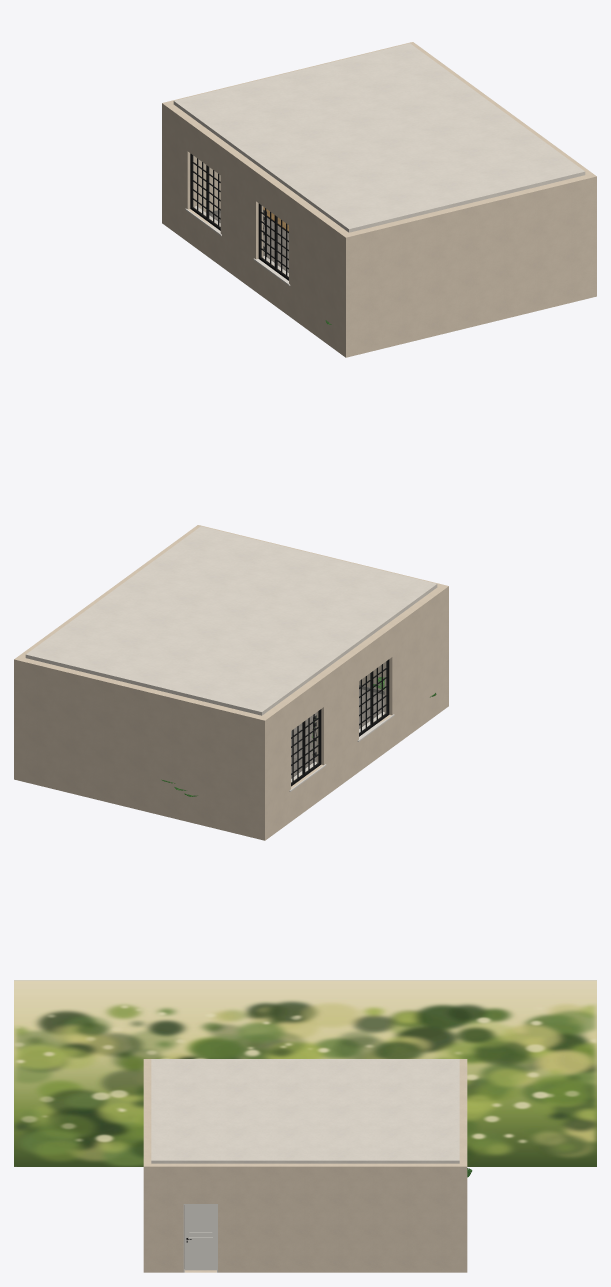
Rendered from room.glb.
3 views of the same model, one above another, from view 1: azimuth 30°, elevation 25°; view 2: azimuth 150°, elevation 25°; view 3: azimuth 270°, elevation 25° (orthographic). The views are drawn at different scales.
Visible parts, largest first — view 1: Ceiling, Wall_Front, Wall_Left, Wall_Back, Window_2_windowFrame, Window_1_windowFrame, Wall_Right, Floor; view 2: Ceiling, Wall_Back, Wall_Left, Floor, Wall_Right, Window_2_windowFrame, Window_1_windowFrame, Wall_Front; view 3: Outside_Garden, Wall_Right, Ceiling, Door_door, Wall_Back, Wall_Front.
Boxes of the visible parts, box(x1,y1,x2,y2) form: Ceiling: box(173, 43, 585, 232); Wall_Front: box(341, 173, 596, 357); Wall_Left: box(162, 101, 352, 354); Wall_Back: box(162, 42, 416, 225); Window_2_windowFrame: box(258, 203, 288, 280); Window_1_windowFrame: box(190, 153, 220, 230); Wall_Right: box(407, 42, 596, 296); Floor: box(210, 213, 288, 272); Ceiling: box(25, 526, 437, 715); Wall_Back: box(14, 656, 269, 840); Wall_Left: box(258, 584, 448, 837); Floor: box(291, 689, 384, 778); Wall_Right: box(14, 525, 200, 780); Window_2_windowFrame: box(359, 659, 389, 736); Window_1_windowFrame: box(291, 709, 321, 786); Wall_Front: box(194, 525, 448, 708); Outside_Garden: box(14, 980, 596, 1166); Wall_Right: box(143, 1163, 467, 1272); Ceiling: box(151, 1059, 459, 1163); Door_door: box(183, 1204, 217, 1272); Wall_Back: box(459, 1059, 467, 1272); Wall_Front: box(143, 1059, 151, 1272).
Bounding box in the file's own units: 9.64 × 6 × 17.
74 materials, 23 textured.
